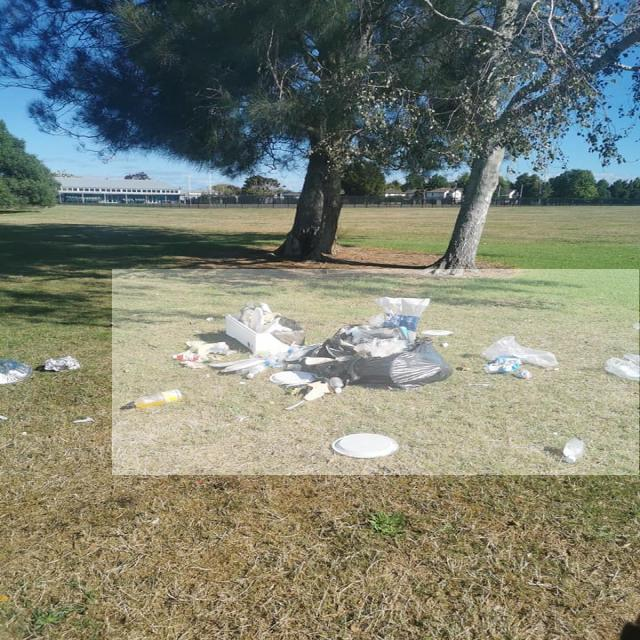dumping: (112, 269, 639, 475)
